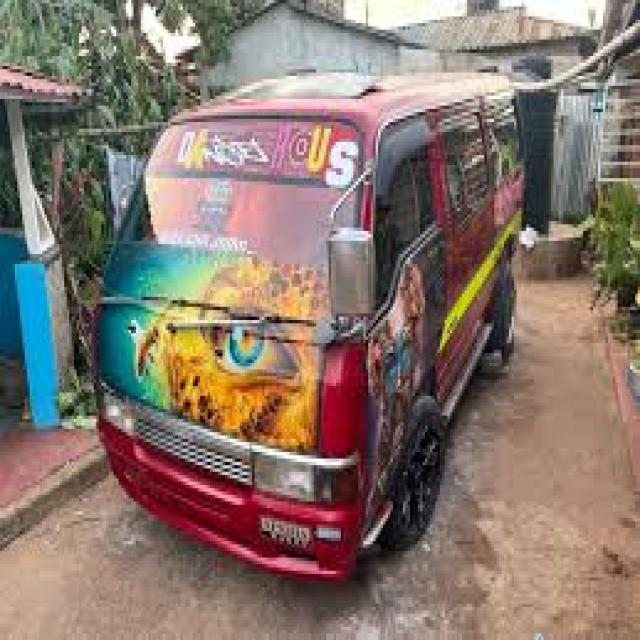matatu: (81, 22, 528, 602)
